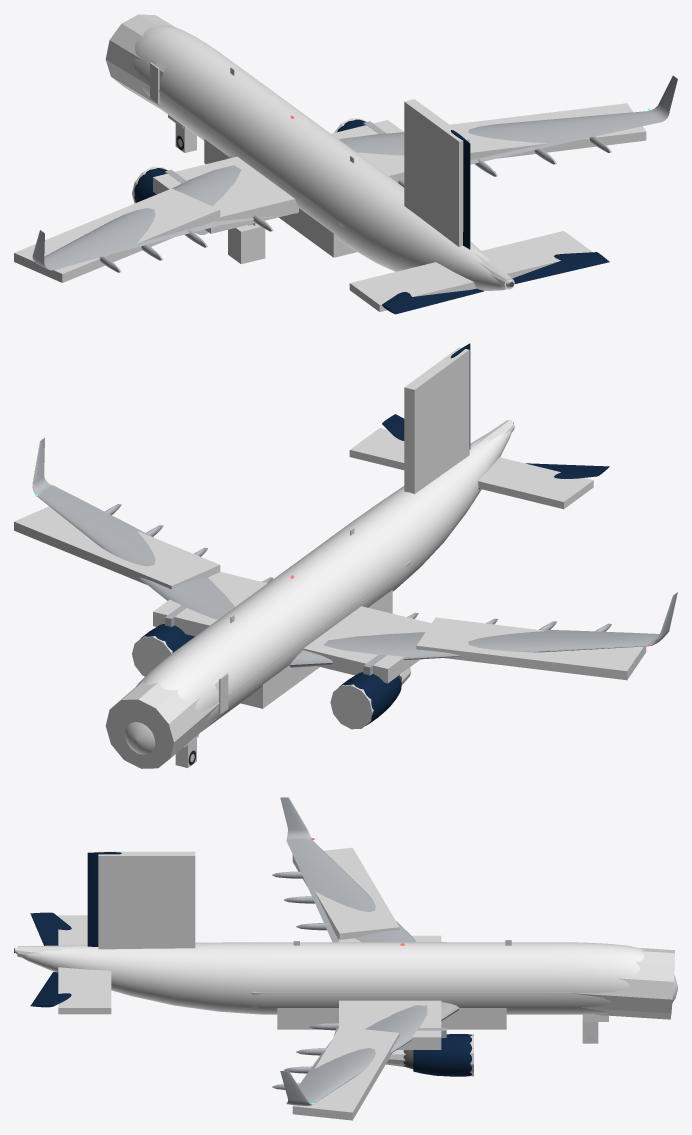
The model's file is a320neo.glb.
The picture shows the model from 3 angles, top to bottom: view 1: azimuth 30°, elevation 25°; view 2: azimuth 150°, elevation 25°; view 3: azimuth 270°, elevation 25°; orthographic projection. The views are drawn at different scales.
Parts seen in each view (by area): view 1: a320neo_lod0, COL_fin, COL_wing_out_L, COL_wing_in_L, COL_wing_out_R, COL_htp_L, COL_fuselage_front, COL_htp_R, COL_fairing, COL_wing_in_R, COL_gear_L; view 2: a320neo_lod0, COL_fin, COL_wing_out_L, COL_fuselage_front, COL_wing_out_R, COL_wing_in_L, COL_htp_L, COL_wing_in_R, COL_fairing, COL_engine_L, COL_htp_R, COL_engine_R; view 3: a320neo_lod0, COL_fin, COL_wing_out_R, COL_fuselage_front, COL_wing_out_L, COL_wing_in_R, COL_fairing, COL_htp_R, COL_htp_L, COL_fuselage_mid.
Boxes of the visible parts, box(x1,y1,x2,y2) form: a320neo_lod0: box(32, 25, 677, 314); COL_fin: box(404, 99, 469, 246); COL_wing_out_L: box(14, 188, 220, 282); COL_wing_in_L: box(153, 156, 298, 233); COL_wing_out_R: box(450, 103, 646, 160); COL_htp_L: box(349, 262, 476, 311); COL_fuselage_front: box(105, 14, 176, 108); COL_htp_R: box(482, 231, 592, 278); COL_fairing: box(204, 139, 356, 257); COL_wing_in_R: box(331, 120, 404, 182); COL_gear_L: box(228, 223, 265, 264); a320neo_lod0: box(32, 343, 677, 754); COL_fin: box(404, 347, 469, 494); COL_wing_out_L: box(416, 617, 646, 680); COL_fuselage_front: box(105, 672, 230, 768); COL_wing_out_R: box(14, 506, 220, 589); COL_wing_in_L: box(303, 606, 431, 683); COL_htp_L: box(478, 457, 593, 509); COL_wing_in_R: box(153, 572, 267, 636); COL_fairing: box(240, 590, 392, 708); COL_engine_L: box(330, 667, 410, 729); COL_htp_R: box(349, 428, 404, 470); COL_engine_R: box(132, 636, 172, 676); a320neo_lod0: box(14, 797, 677, 1105); COL_fin: box(98, 851, 195, 949); COL_wing_out_R: box(292, 1026, 399, 1120); COL_fuselage_front: box(572, 948, 674, 1019); COL_wing_out_L: box(292, 847, 399, 939); COL_wing_in_R: box(339, 1000, 441, 1049); COL_fairing: box(277, 1008, 506, 1029); COL_htp_R: box(58, 967, 111, 1014); COL_htp_L: box(58, 915, 87, 945); COL_fuselage_mid: box(254, 991, 571, 1007).
Size of what is drawn, in the model's own units: 36.7 by 11.76 by 37.62.
